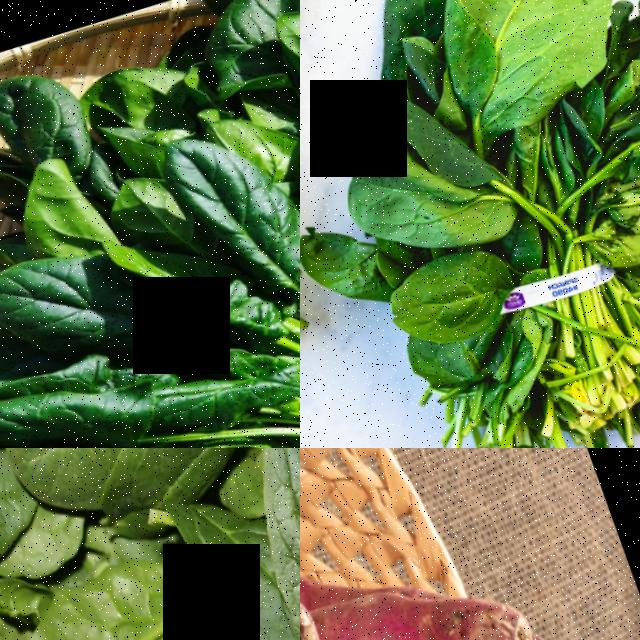spinach: (312, 58, 515, 276), (408, 0, 640, 158), (163, 104, 300, 316), (0, 231, 147, 383), (0, 544, 227, 640), (369, 229, 532, 360), (0, 341, 175, 448), (210, 448, 300, 640), (0, 448, 156, 525), (0, 59, 95, 183), (189, 0, 300, 62)
sweet potato: (308, 550, 556, 640)
